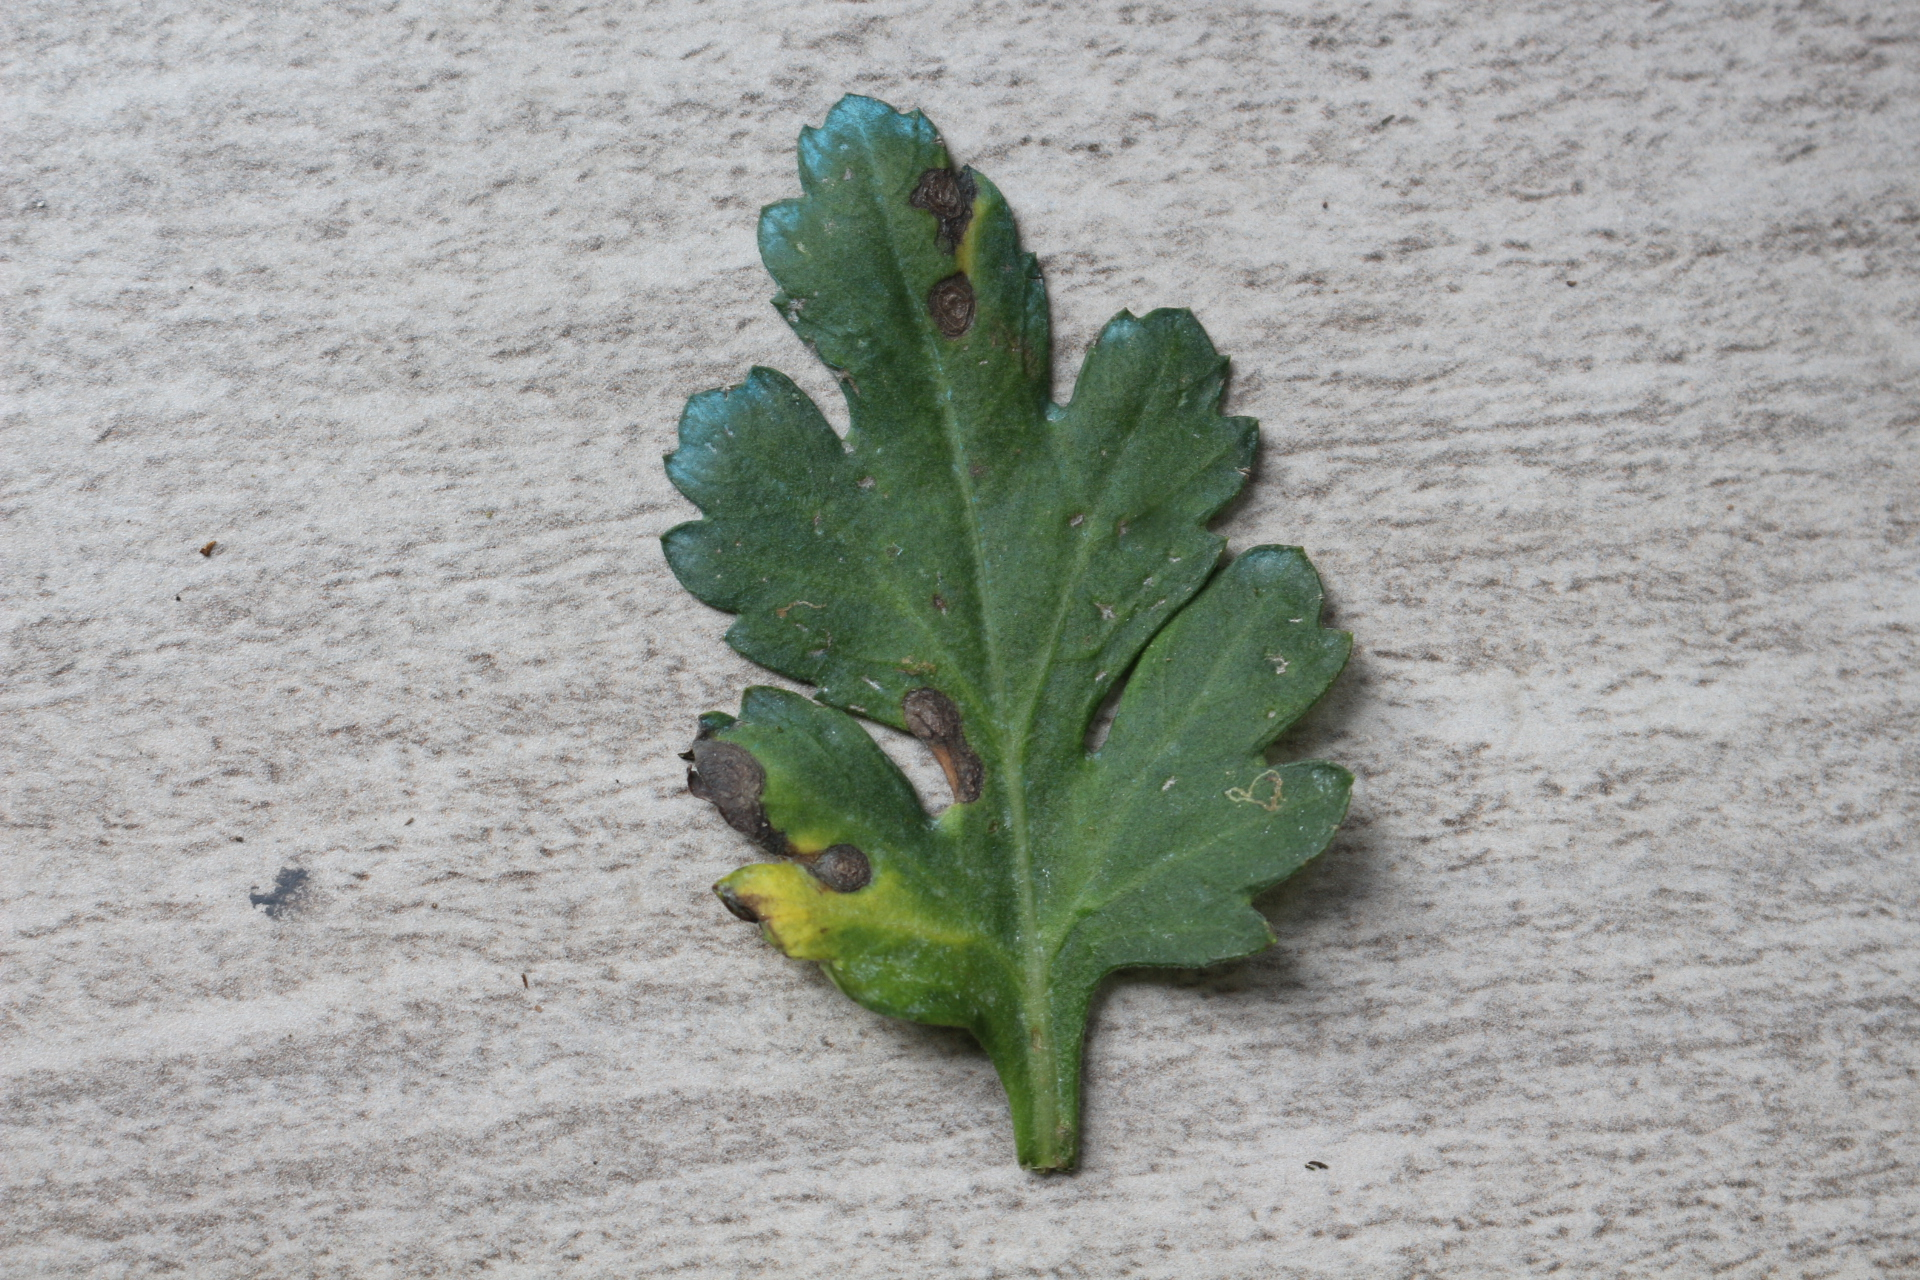namden: (921, 270, 984, 337)
